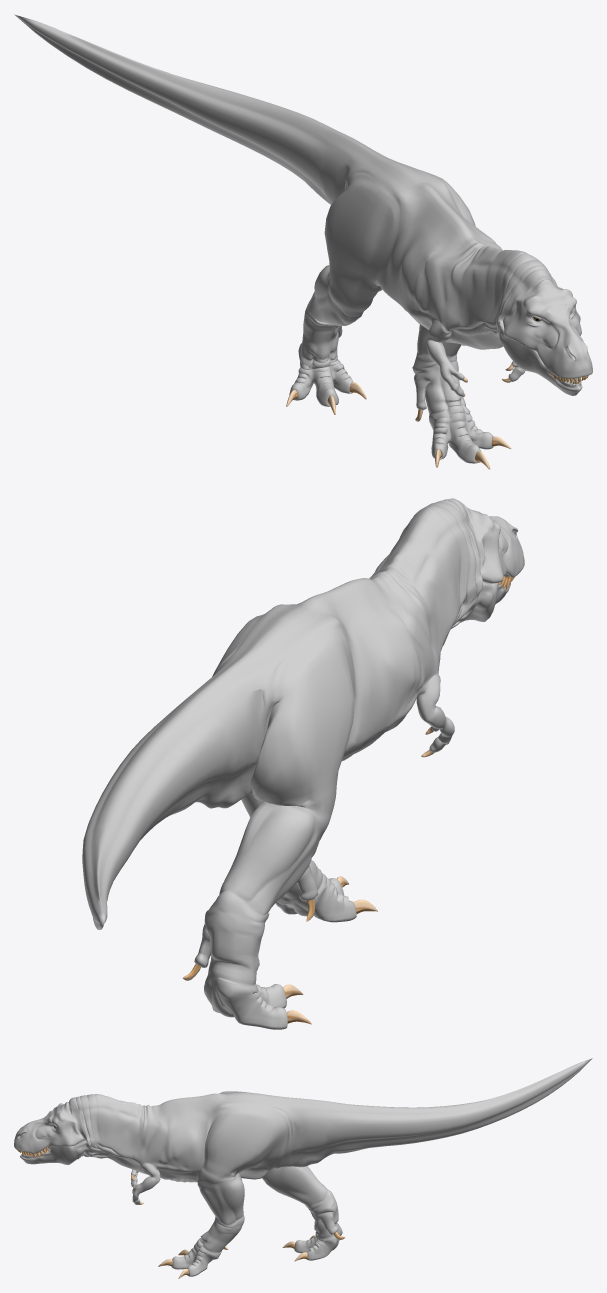
Rendered from trex.gltf.
The picture shows the model from 3 angles, top to bottom: view 1: azimuth 30°, elevation 25°; view 2: azimuth 150°, elevation 25°; view 3: azimuth 270°, elevation 25°; orthographic projection. The views are drawn at different scales.
Visible parts, largest first — view 1: Skin, claws1; view 2: Skin, claws1; view 3: Skin, claws1.
Boxes of the visible parts, x1,y1,x2,y2 form: Skin: (14,14,592,463); claws1: (286,364,513,469); Skin: (82,498,524,1029); claws1: (183,726,434,1024); Skin: (14,1058,592,1276); claws1: (131,1175,345,1278).
Size of the model in its own units: 6.09 by 8.26 by 25.6.
